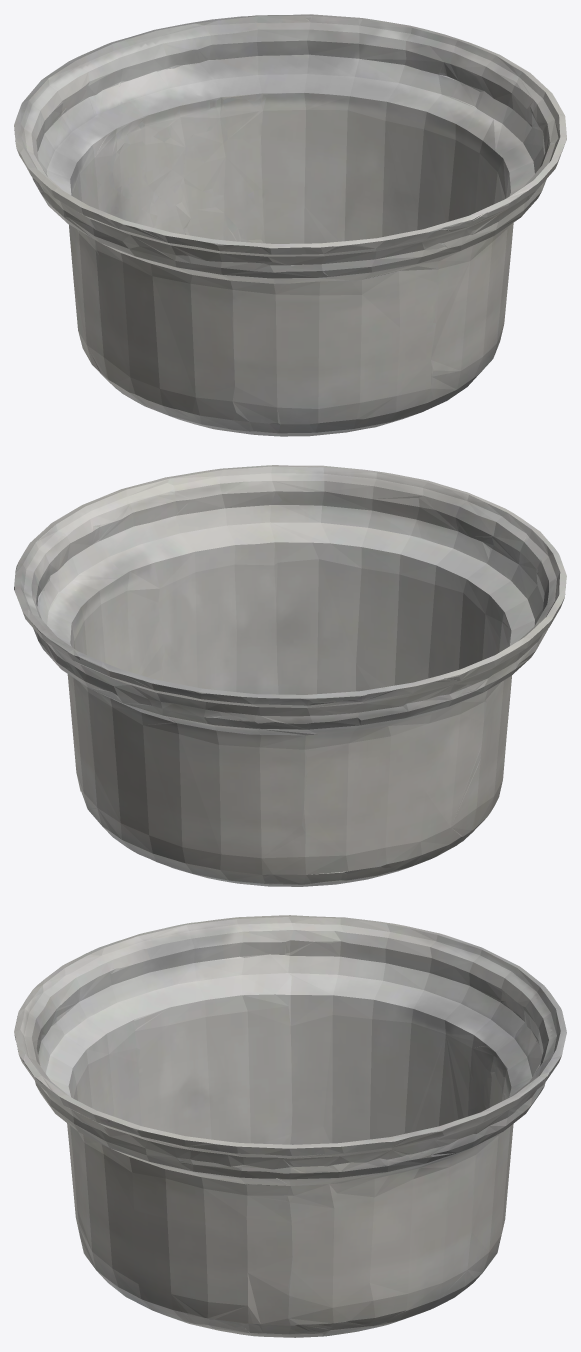
3 views of the same model, one above another, from view 1: azimuth 30°, elevation 25°; view 2: azimuth 150°, elevation 25°; view 3: azimuth 270°, elevation 25° (orthographic).
Parts seen in each view (by area): view 1: world; view 2: world; view 3: world.
Part boxes in pixels (bbox=[...]): world: bbox=[14, 14, 566, 436]; world: bbox=[14, 465, 566, 886]; world: bbox=[14, 915, 566, 1337].
Bounding box in the file's own units: 1 × 0.4691 × 1.
1 material, 1 textured.
